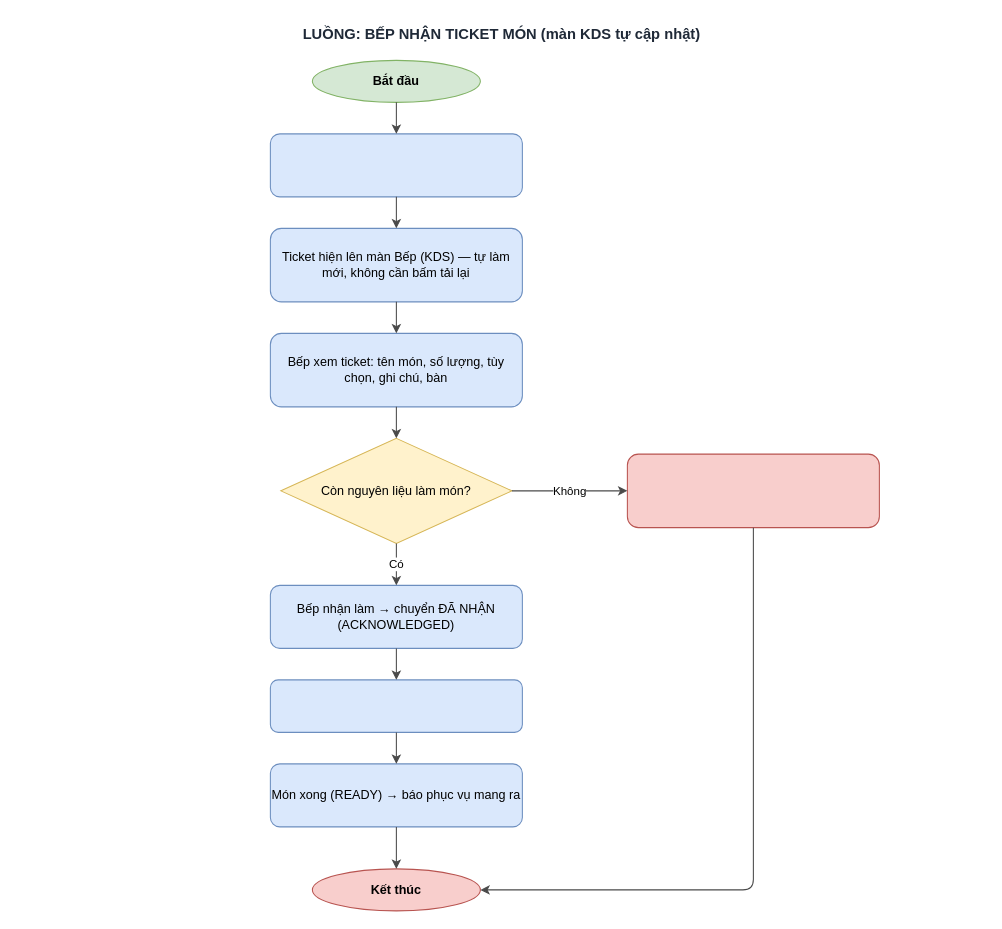
The diagram is 1002 pixels wide and 929 high, and some of its shapes have lost their labels. Here are the shapes that lost their labels. From the top down, the centre of each, then its label:
At (395,165): "Khách đặt món → hệ thống tạo ticket cho bếp".
At (752,490): "Đánh dấu Hết món (UNAVAILABLE) → báo khách & phục vụ".
At (395,705): "Đang làm (PREPARING)".
